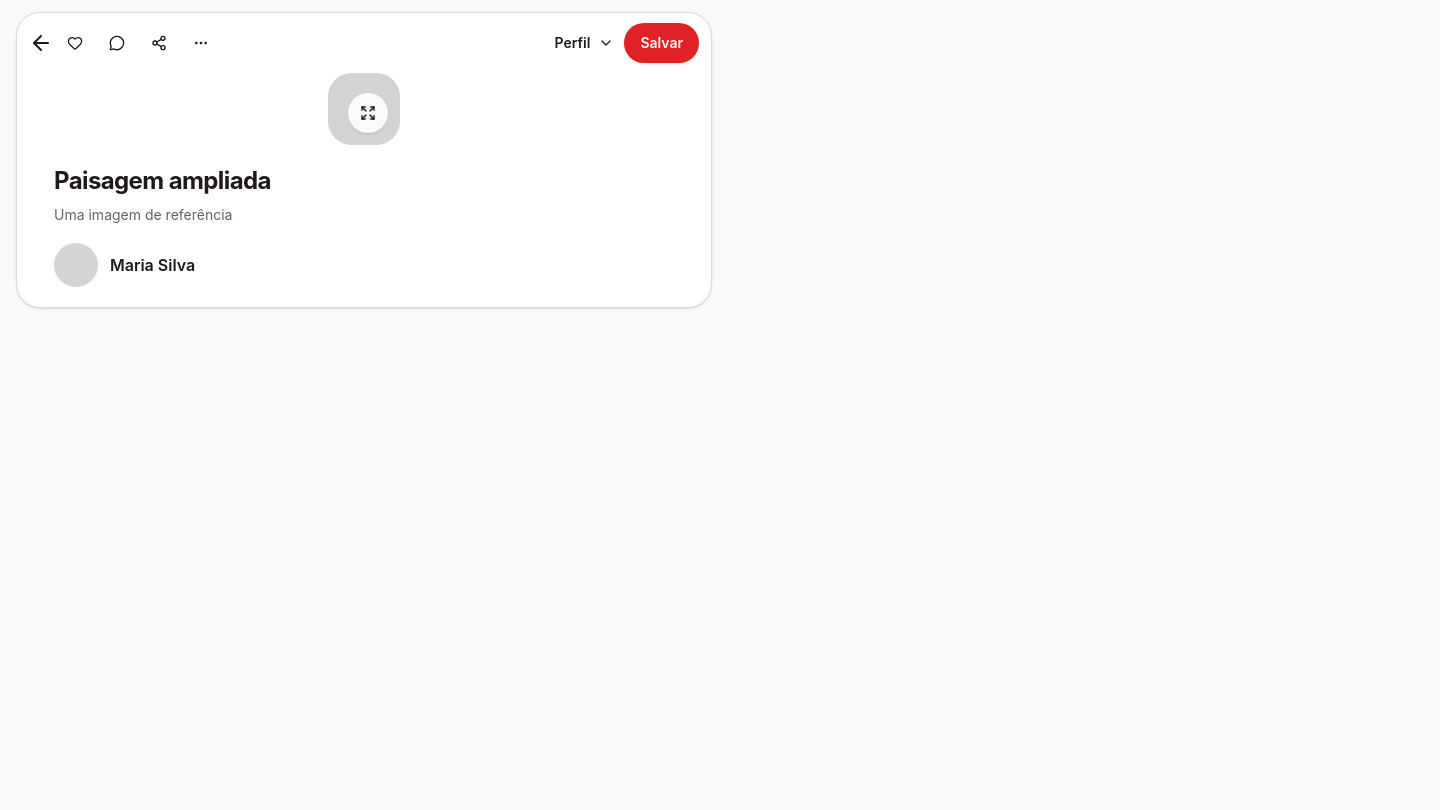
it: ImageDetailsPage › opens and closes the expanded image viewer
The width and height of the screenshot is (1440, 810).
Click the button named "Expandir imagem" at (368, 113), box [348,93,388,133]
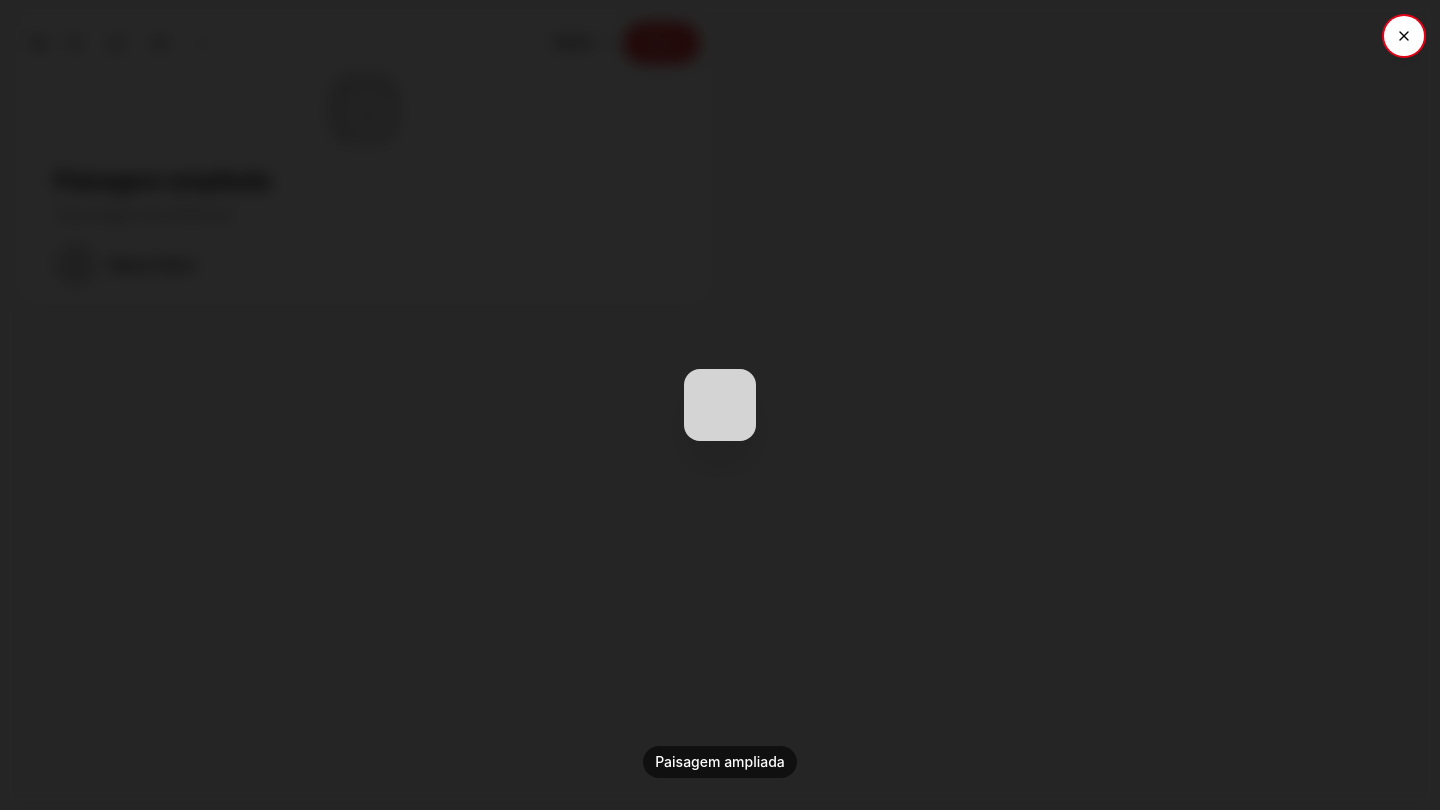
Check: the dialog named "Visualização ampliada de Paisagem ampliada" is shown
Click the button named "Fechar imagem ampliada" at (1404, 36), box [1384,16,1424,56]
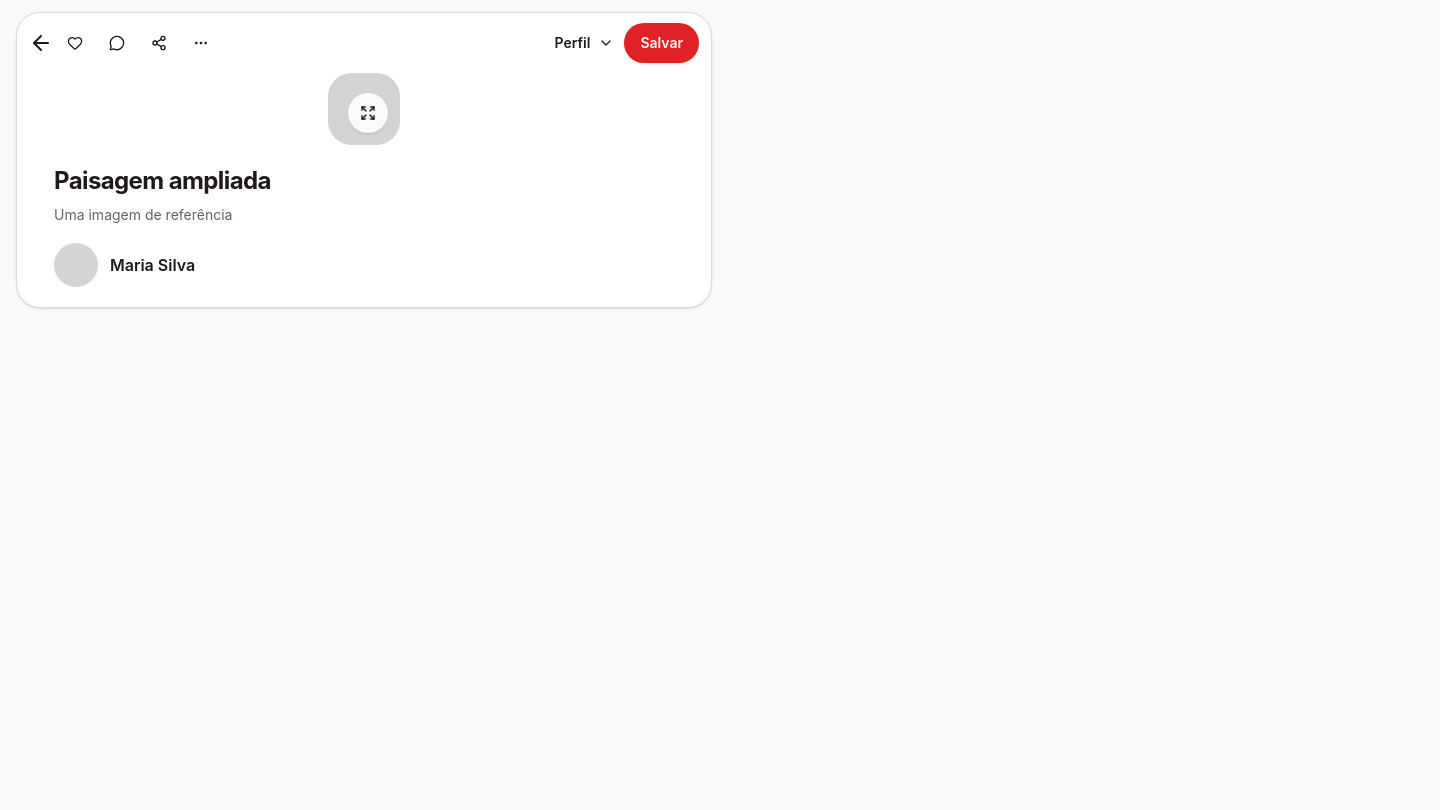
Check: the dialog is gone
